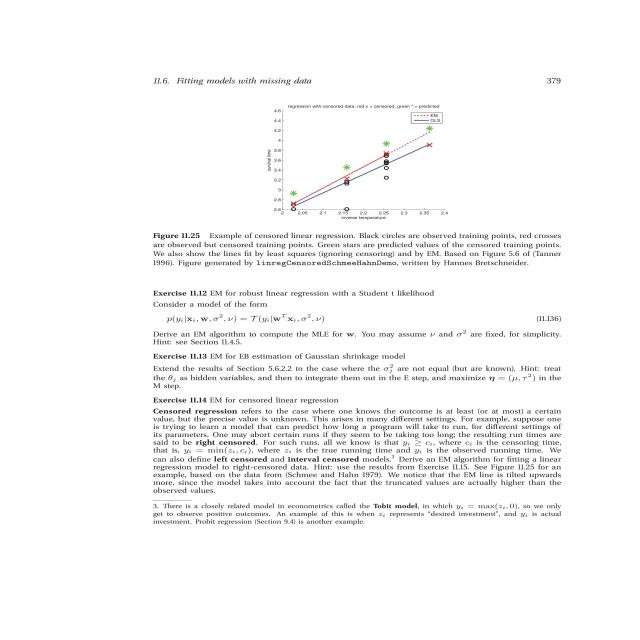diagram: (98, 94, 640, 276)
